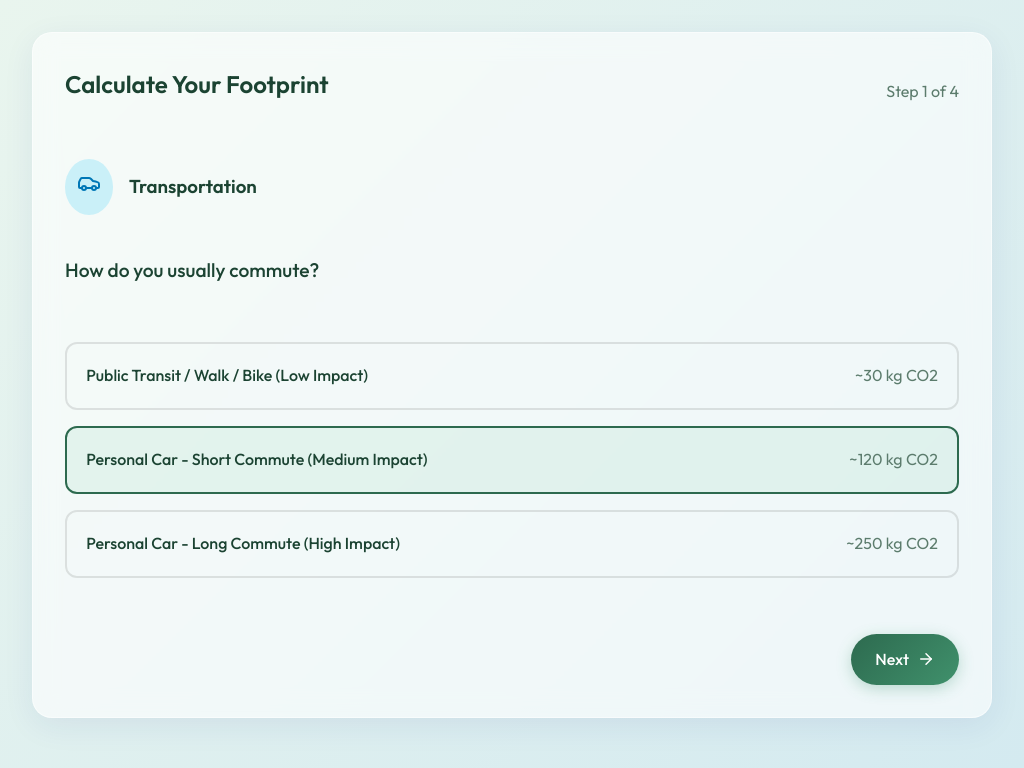
Test case: Calculator Component › can navigate to the next step
Click the button "Next".
click(905, 659)  # box [851,634,959,685]
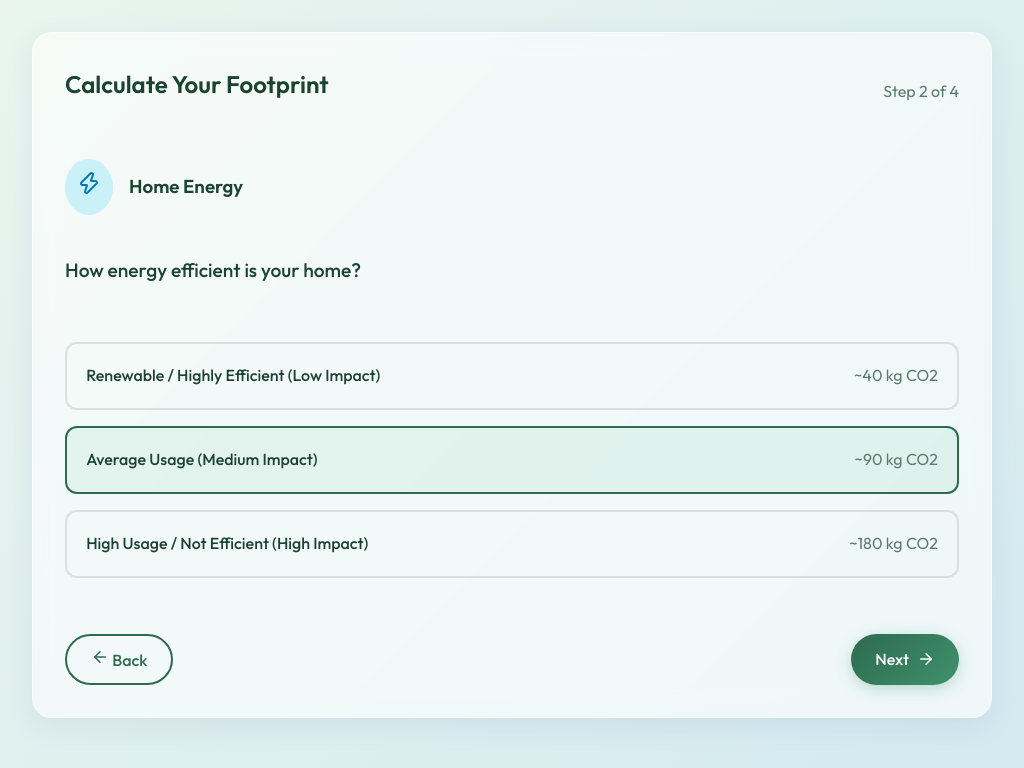
Now the heading "Home Energy" is shown, box [129,172,243,202]
